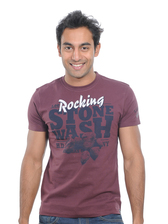clothoes: (27, 70, 145, 216)
